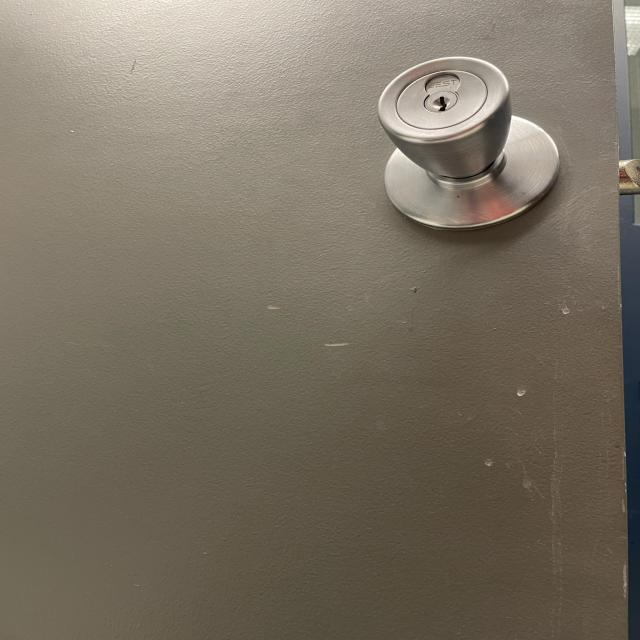door-knob: (378, 56, 558, 229)
